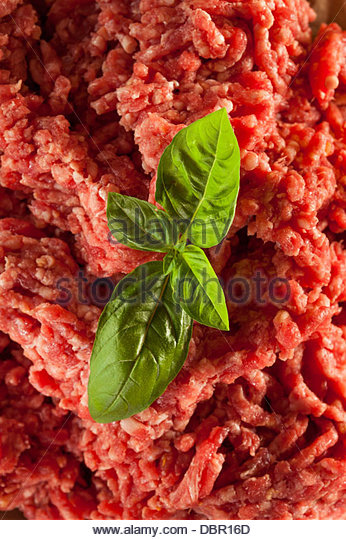ground_beef: (25, 28, 303, 134), (235, 202, 335, 474)
